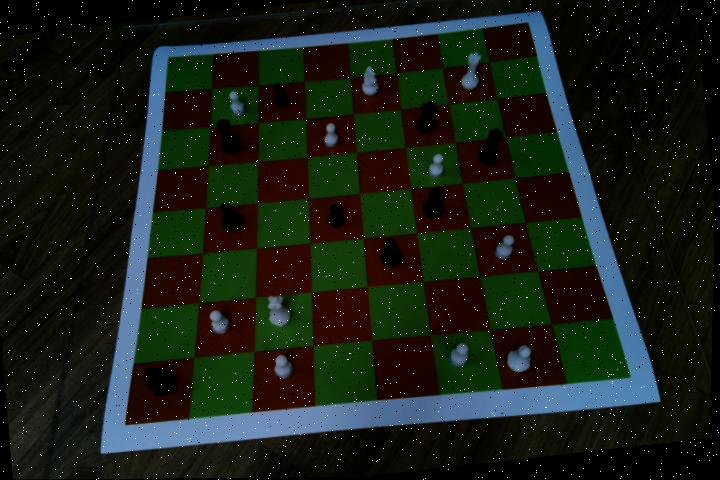chessboard-detect: (127, 23, 633, 427)
